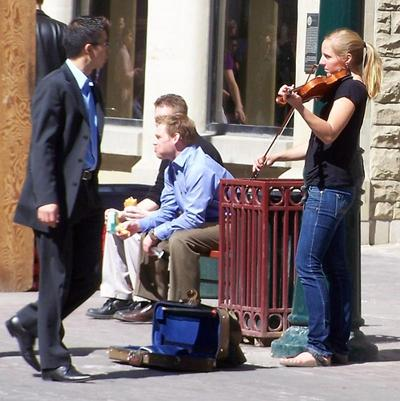person: (253, 30, 386, 370)
